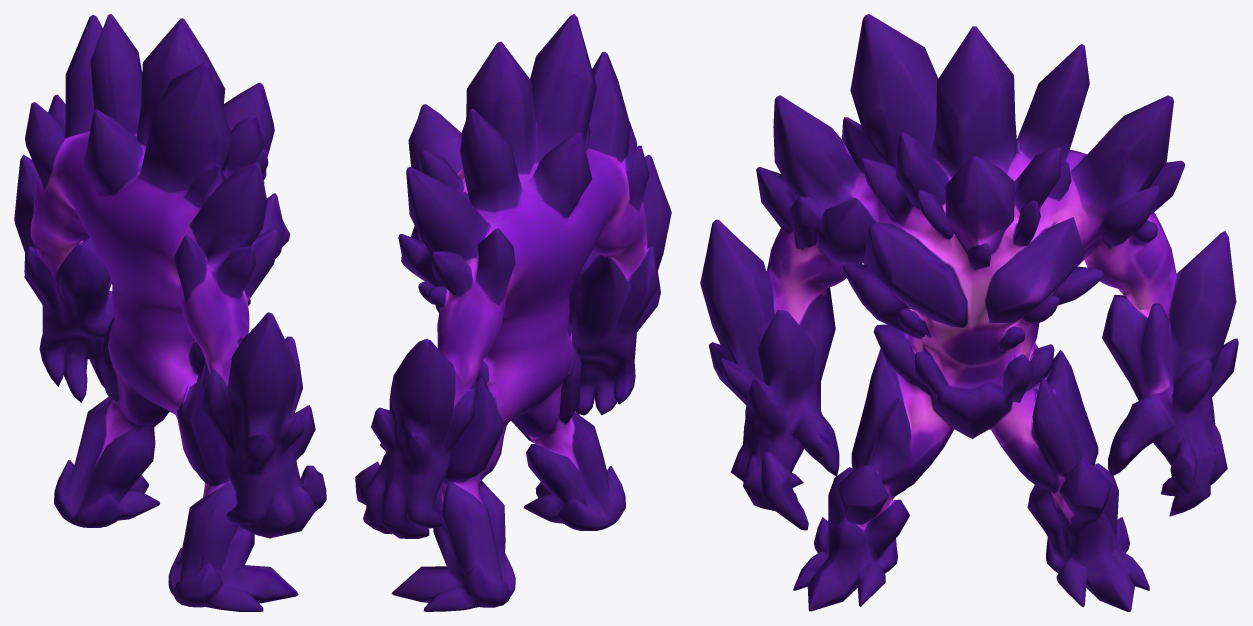
The model's file is sgolem.glb.
The picture shows the model from 3 angles, left to right: view 1: azimuth 30°, elevation 25°; view 2: azimuth 150°, elevation 25°; view 3: azimuth 270°, elevation 25°; orthographic projection. The views are drawn at different scales.
Parts seen in each view (by area): view 1: tripo_node_f4445bb2-ecf0-4279-8d52-408d2fd6b105; view 2: tripo_node_f4445bb2-ecf0-4279-8d52-408d2fd6b105; view 3: tripo_node_f4445bb2-ecf0-4279-8d52-408d2fd6b105.
Boxes of the visible parts, bbox=[...] form: tripo_node_f4445bb2-ecf0-4279-8d52-408d2fd6b105: bbox=[14, 14, 326, 611]; tripo_node_f4445bb2-ecf0-4279-8d52-408d2fd6b105: bbox=[355, 14, 671, 611]; tripo_node_f4445bb2-ecf0-4279-8d52-408d2fd6b105: bbox=[700, 14, 1238, 611].
Bounding box in the file's own units: 0.3458 × 0.9764 × 0.8427.
Materials: 1 (1 with a texture image).
